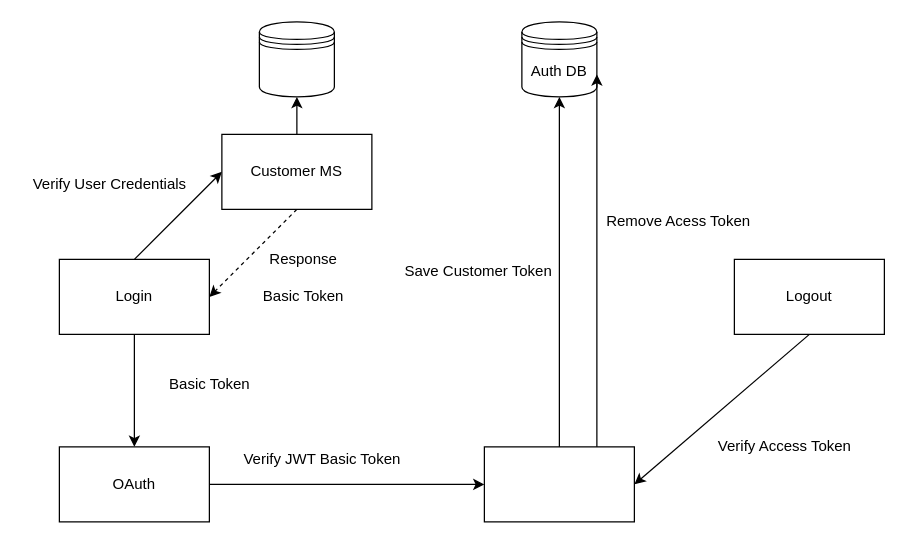
Some shapes in this 906 by 544 pixel diagram are drawn without their labels. Here are the shapes that lost their labels. From the top down, the centre of each, then its label:
At point (296, 59): "Customer DB".
At point (558, 484): "JWT".
